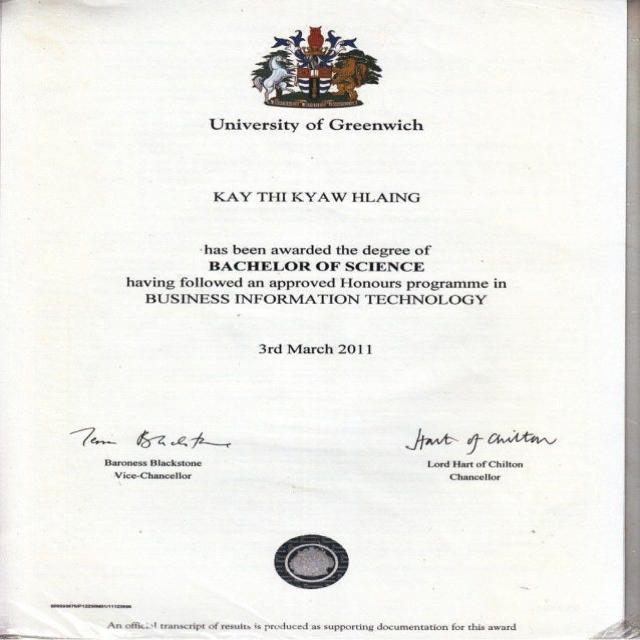signature: (65, 419, 236, 455), (398, 419, 563, 454)
